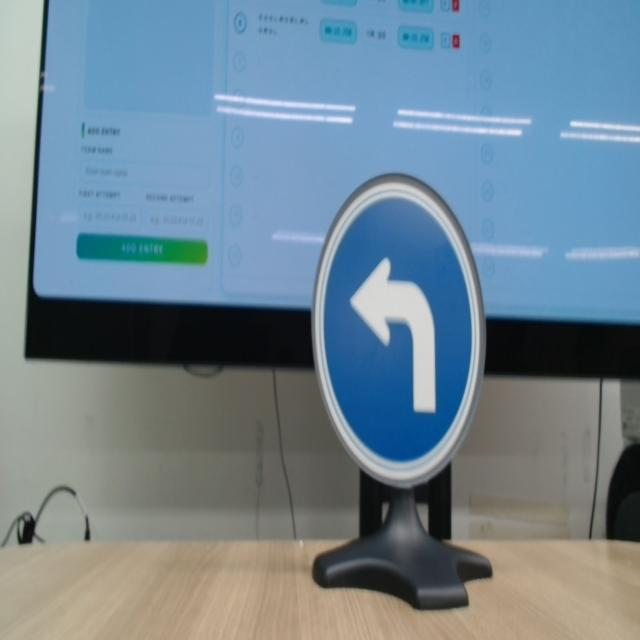left_direction: (303, 174, 492, 491)
